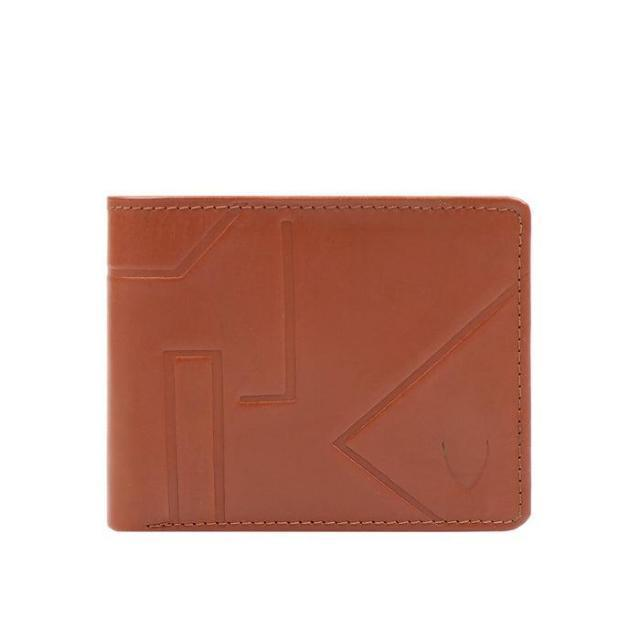wallet: (102, 188, 532, 532)
